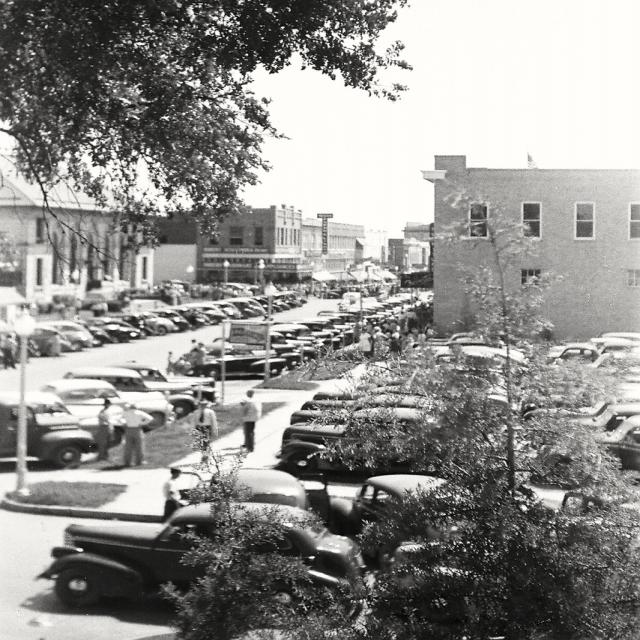other: (185, 327, 640, 602), (0, 290, 432, 467), (36, 503, 369, 610), (0, 290, 310, 366), (325, 281, 403, 298)
